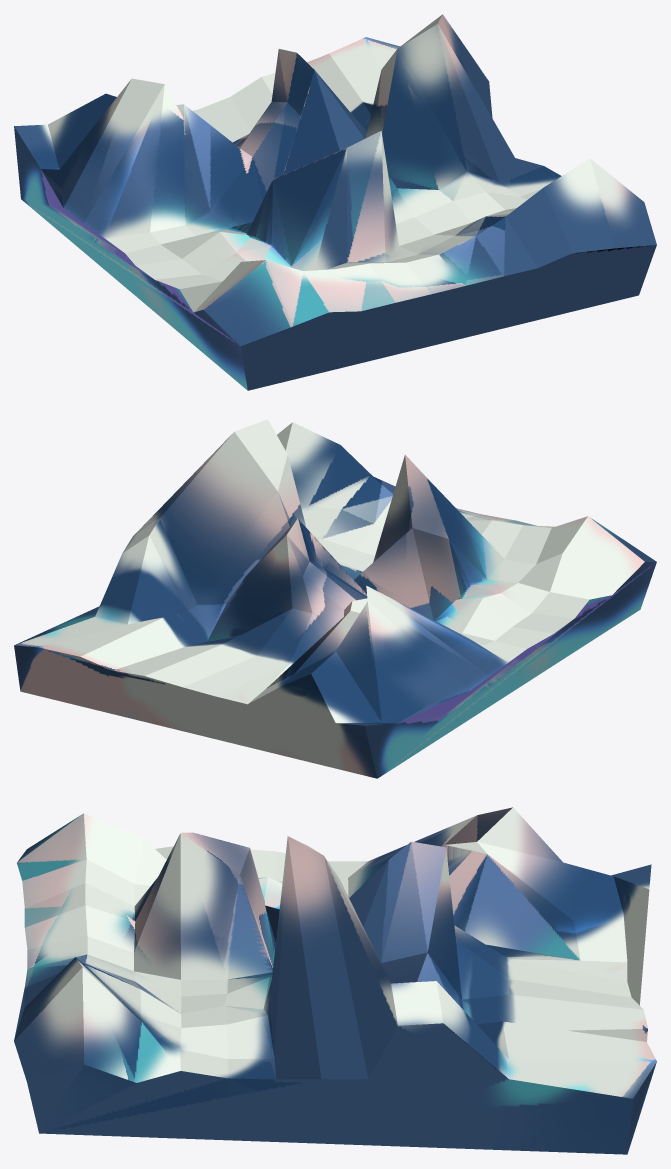
Rendered from menu mountainz.fbx.
The picture shows the model from 3 angles, top to bottom: view 1: azimuth 30°, elevation 25°; view 2: azimuth 150°, elevation 25°; view 3: azimuth 270°, elevation 25°; orthographic projection. The views are drawn at different scales.
Visible parts, largest first — view 1: Icosphere; view 2: Icosphere; view 3: Icosphere.
Part boxes in pixels (x1,y1,x2,y2): Icosphere: [14, 14, 656, 390]; Icosphere: [14, 419, 656, 778]; Icosphere: [14, 807, 656, 1154].
Bounding box in the file's own units: 612 × 312 × 662.
